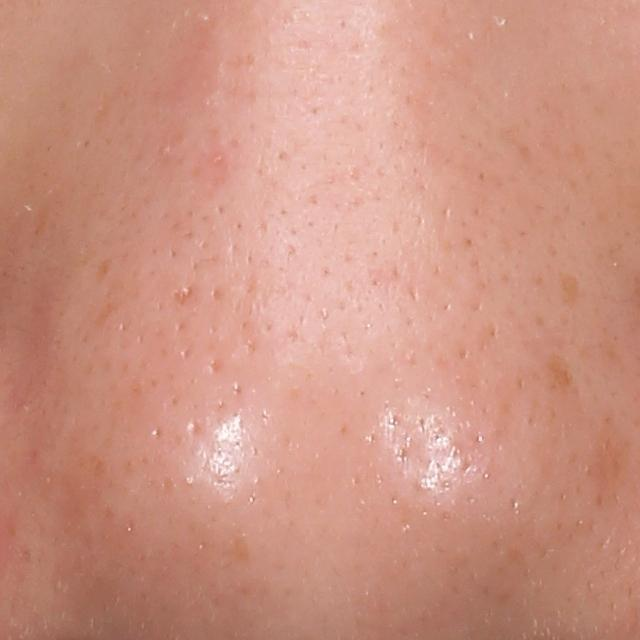melasma: (582, 426, 631, 504), (546, 350, 579, 395), (556, 269, 584, 313)
